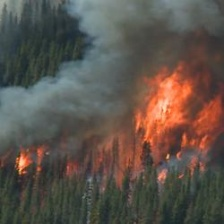fire: (134, 73, 223, 154), (14, 148, 44, 176)
smoke: (4, 5, 129, 128), (137, 1, 221, 62)
